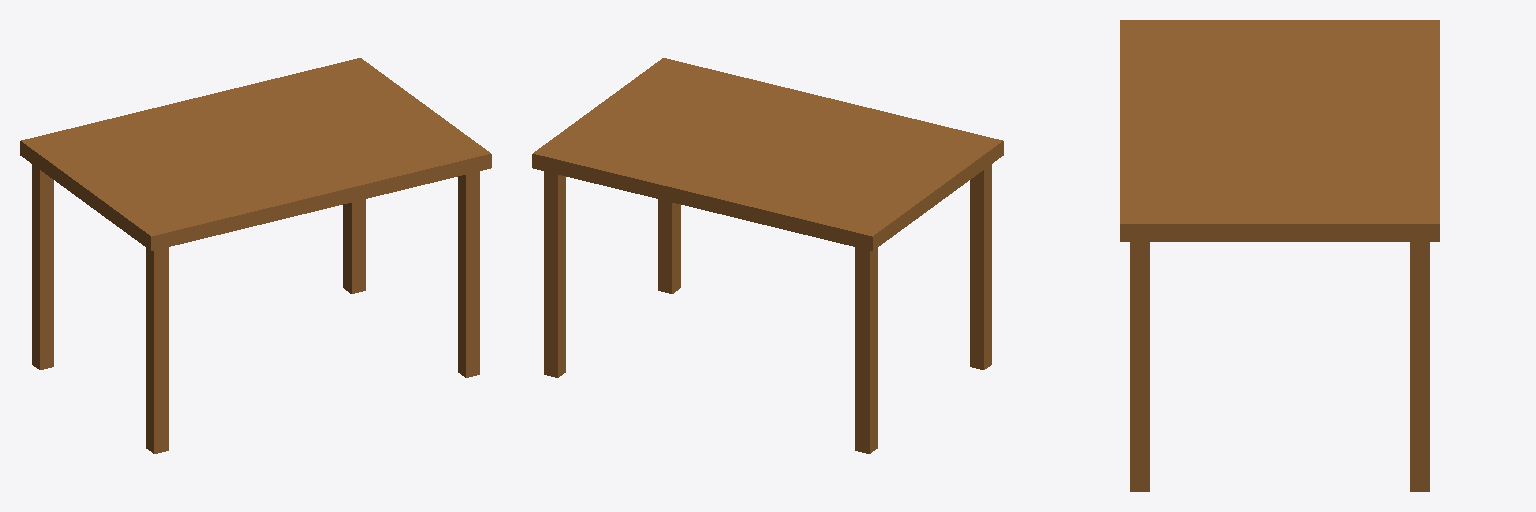
URDF robot description (table):
<?xml version="1.0" ?>
<robot name="table">

  <!-- Base (root) -->
  <link name="base"/>

  <!-- Plateau : 1.2m x 0.8m x 0.05m, centré à z=0.725 -->
  <link name="tabletop">
    <visual>
      <geometry>
        <mesh filename="tabletop.obj"/>
      </geometry>
      <material name="wood">
        <color rgba="0.65 0.45 0.25 1.0"/>
      </material>
    </visual>
    <collision>
      <geometry>
        <mesh filename="tabletop.obj"/>
      </geometry>
    </collision>
  </link>
  <joint name="joint_tabletop" type="fixed">
    <parent link="base"/>
    <child link="tabletop"/>
    <origin xyz="0 0 0.725"/>
  </joint>

  <!-- Pied avant-droit -->
  <link name="leg_fr">
    <visual>
      <geometry>
        <mesh filename="leg.obj"/>
      </geometry>
      <material name="wood">
        <color rgba="0.65 0.45 0.25 1.0"/>
      </material>
    </visual>
    <collision>
      <geometry>
        <mesh filename="leg.obj"/>
      </geometry>
    </collision>
  </link>
  <joint name="joint_leg_fr" type="fixed">
    <parent link="base"/>
    <child link="leg_fr"/>
    <origin xyz="0.55 0.35 0.35"/>
  </joint>

  <!-- Pied avant-gauche -->
  <link name="leg_fl">
    <visual>
      <geometry>
        <mesh filename="leg.obj"/>
      </geometry>
      <material name="wood">
        <color rgba="0.65 0.45 0.25 1.0"/>
      </material>
    </visual>
    <collision>
      <geometry>
        <mesh filename="leg.obj"/>
      </geometry>
    </collision>
  </link>
  <joint name="joint_leg_fl" type="fixed">
    <parent link="base"/>
    <child link="leg_fl"/>
    <origin xyz="0.55 -0.35 0.35"/>
  </joint>

  <!-- Pied arriere-droit -->
  <link name="leg_br">
    <visual>
      <geometry>
        <mesh filename="leg.obj"/>
      </geometry>
      <material name="wood">
        <color rgba="0.65 0.45 0.25 1.0"/>
      </material>
    </visual>
    <collision>
      <geometry>
        <mesh filename="leg.obj"/>
      </geometry>
    </collision>
  </link>
  <joint name="joint_leg_br" type="fixed">
    <parent link="base"/>
    <child link="leg_br"/>
    <origin xyz="-0.55 0.35 0.35"/>
  </joint>

  <!-- Pied arriere-gauche -->
  <link name="leg_bl">
    <visual>
      <geometry>
        <mesh filename="leg.obj"/>
      </geometry>
      <material name="wood">
        <color rgba="0.65 0.45 0.25 1.0"/>
      </material>
    </visual>
    <collision>
      <geometry>
        <mesh filename="leg.obj"/>
      </geometry>
    </collision>
  </link>
  <joint name="joint_leg_bl" type="fixed">
    <parent link="base"/>
    <child link="leg_bl"/>
    <origin xyz="-0.55 -0.35 0.35"/>
  </joint>

</robot>

--- Render facts (derived) ---
Views: 3 orthographic renders of the robot side by side, from view 1: azimuth 30°, elevation 25°; view 2: azimuth 150°, elevation 25°; view 3: azimuth 270°, elevation 25°.
Model table with 6 links and 5 joints (5 fixed), rooted at base, posed all joints at 0.
Links seen in each view (by area): view 1: tabletop, leg_bl, leg_fl, leg_br, leg_fr; view 2: tabletop, leg_br, leg_fr, leg_bl, leg_fl; view 3: tabletop, leg_fr, leg_fl.
Link boxes in pixels (x1=…): tabletop: x1=20, y1=58, x2=491, y2=250; leg_bl: x1=146, y1=247, x2=168, y2=453; leg_fl: x1=458, y1=171, x2=479, y2=377; leg_br: x1=32, y1=164, x2=53, y2=369; leg_fr: x1=343, y1=199, x2=365, y2=293; tabletop: x1=532, y1=58, x2=1003, y2=250; leg_br: x1=855, y1=247, x2=877, y2=453; leg_fr: x1=544, y1=171, x2=565, y2=377; leg_bl: x1=970, y1=164, x2=991, y2=369; leg_fl: x1=658, y1=199, x2=680, y2=293; tabletop: x1=1120, y1=20, x2=1439, y2=241; leg_fr: x1=1410, y1=242, x2=1429, y2=491; leg_fl: x1=1130, y1=242, x2=1149, y2=491.
Size in the robot's own frame: 1.2 by 0.8 by 0.75 metres.
Meshes: 2 distinct files referenced, 5 mesh visuals loaded (2 OBJ).
